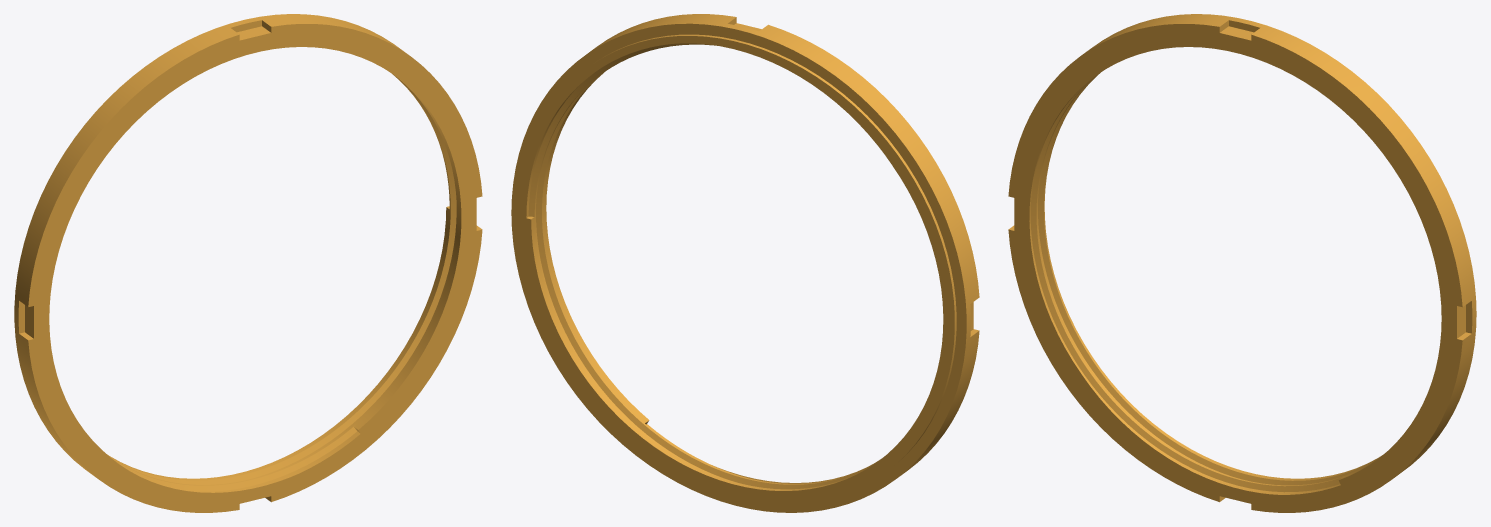
Rendered from Inner_Race_Nut.obj.
3 renders of one model, left to right at view 1: azimuth 30°, elevation 25°; view 2: azimuth 150°, elevation 25°; view 3: azimuth 330°, elevation 25°, orthographic.
Parts seen in each view (by area): view 1: Inner_Race_Nut; view 2: Inner_Race_Nut; view 3: Inner_Race_Nut.
Part boxes in pixels (box(x1,y1,x2,y2)): Inner_Race_Nut: box(14, 14, 482, 512); Inner_Race_Nut: box(511, 14, 979, 512); Inner_Race_Nut: box(1008, 14, 1476, 512).
Size of the model in its own units: 43.19 by 43.19 by 2.5.
